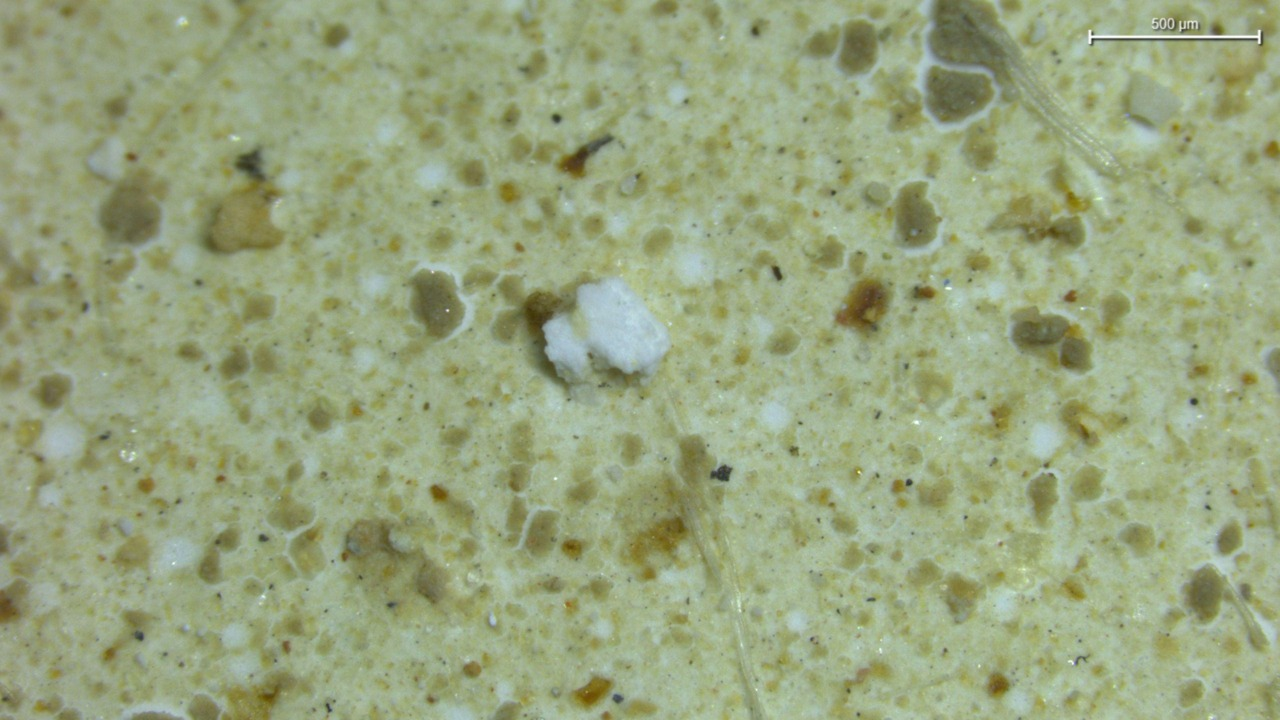microplastic_fragment: (544, 277, 669, 379), (1128, 73, 1181, 126)
